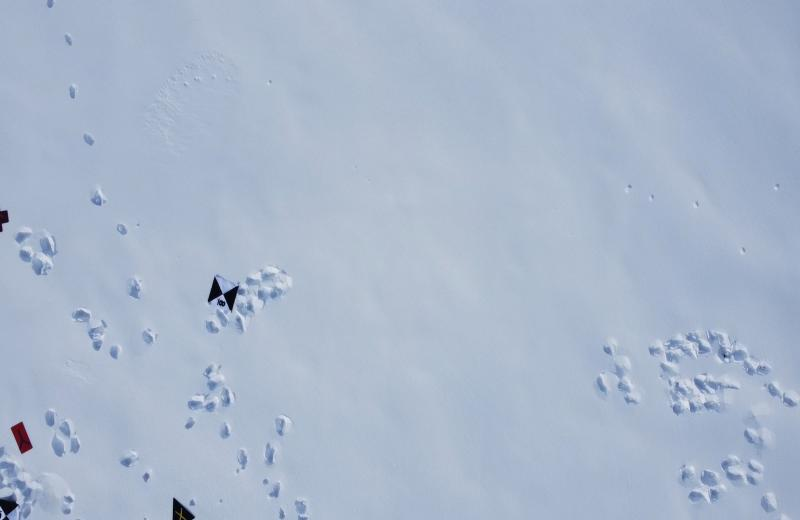Rectangle: (9, 418, 35, 459)
Triangle: (168, 493, 196, 520)
